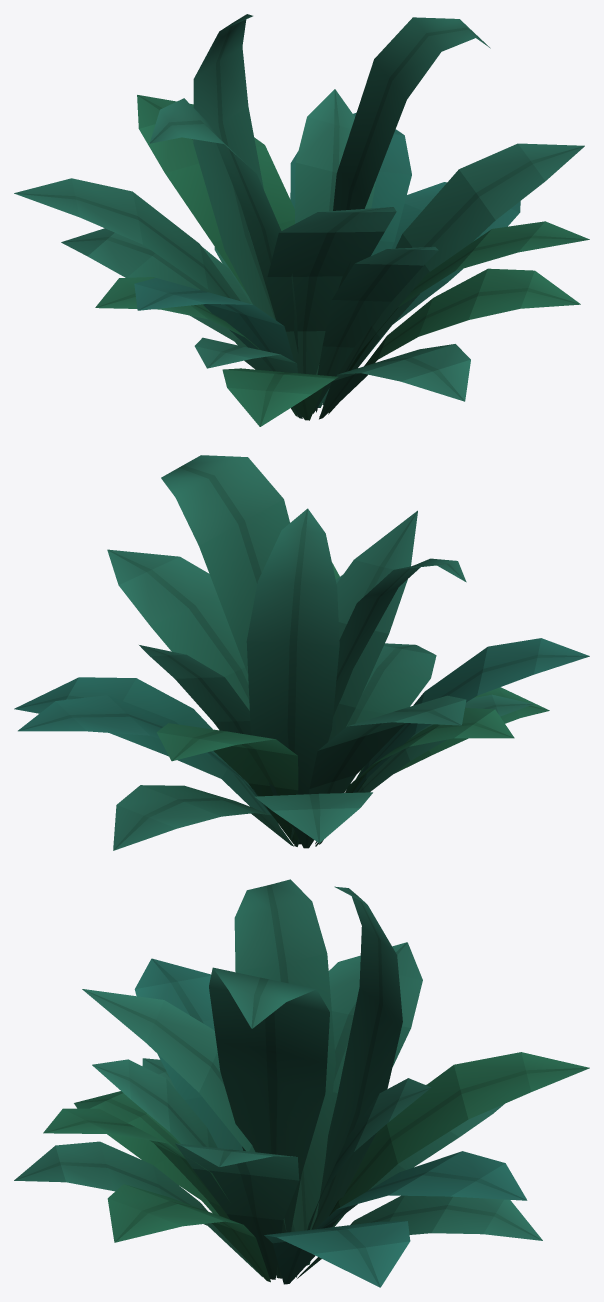
Rendered from Hosta2.fbx.
The picture shows the model from 3 angles, top to bottom: view 1: azimuth 30°, elevation 25°; view 2: azimuth 150°, elevation 25°; view 3: azimuth 270°, elevation 25°; orthographic projection. The views are drawn at different scales.
Visible parts, largest first — view 1: Plane.165; view 2: Plane.165; view 3: Plane.165.
Part boxes in pixels (<box>): Plane.165: <box>14,14,589,426</box>; Plane.165: <box>14,455,589,850</box>; Plane.165: <box>14,879,589,1287</box>.
Size of the model in its own units: 165 by 168 by 122.
